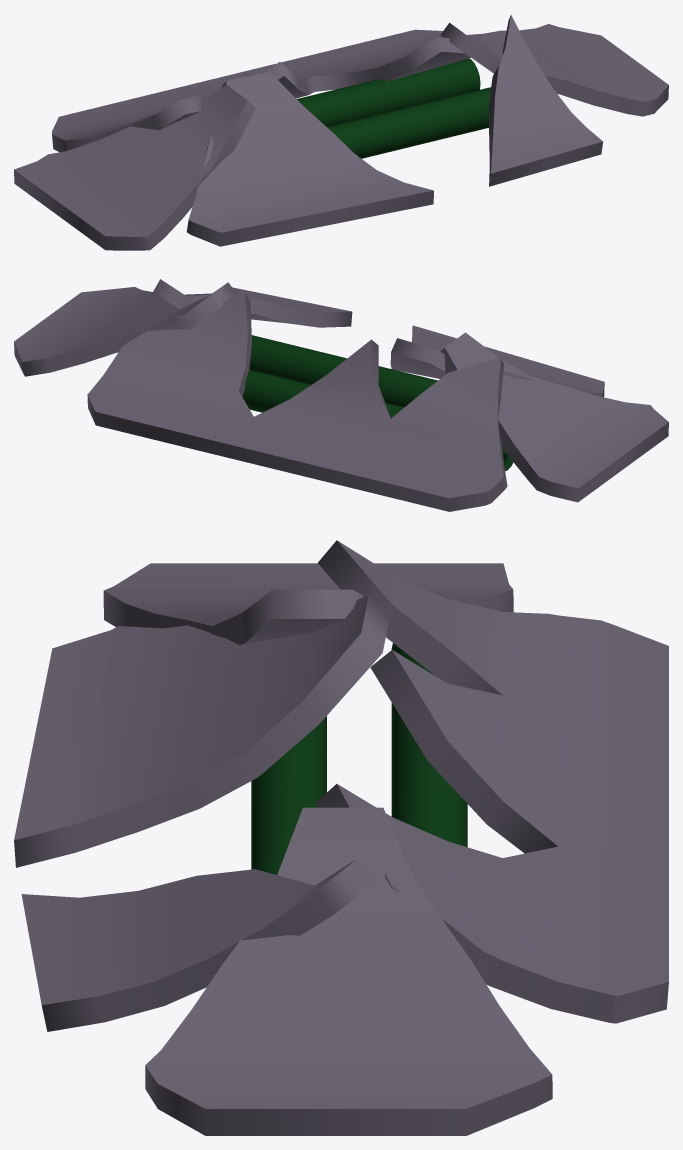
File: Breach.gltf
The picture shows the model from 3 angles, top to bottom: view 1: azimuth 30°, elevation 25°; view 2: azimuth 150°, elevation 25°; view 3: azimuth 270°, elevation 25°; orthographic projection. The views are drawn at different scales.
Parts seen in each view (by area): view 1: Plane.001, Cylinder; view 2: Plane.001, Cylinder; view 3: Plane.001, Cylinder.
Boxes of the visible parts, x1,y1,x2,y2 form: Plane.001: (14,15,668,250); Cylinder: (297,58,491,158); Plane.001: (14,279,668,511); Cylinder: (242,335,513,470); Plane.001: (14,540,668,1135); Cylinder: (251,643,467,874).
Bounding box in the file's own units: 4.24 × 0.6227 × 2.15.
